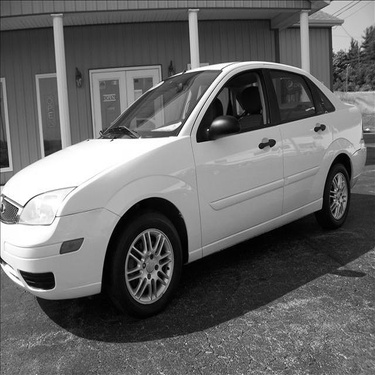car: (1, 51, 365, 317)
